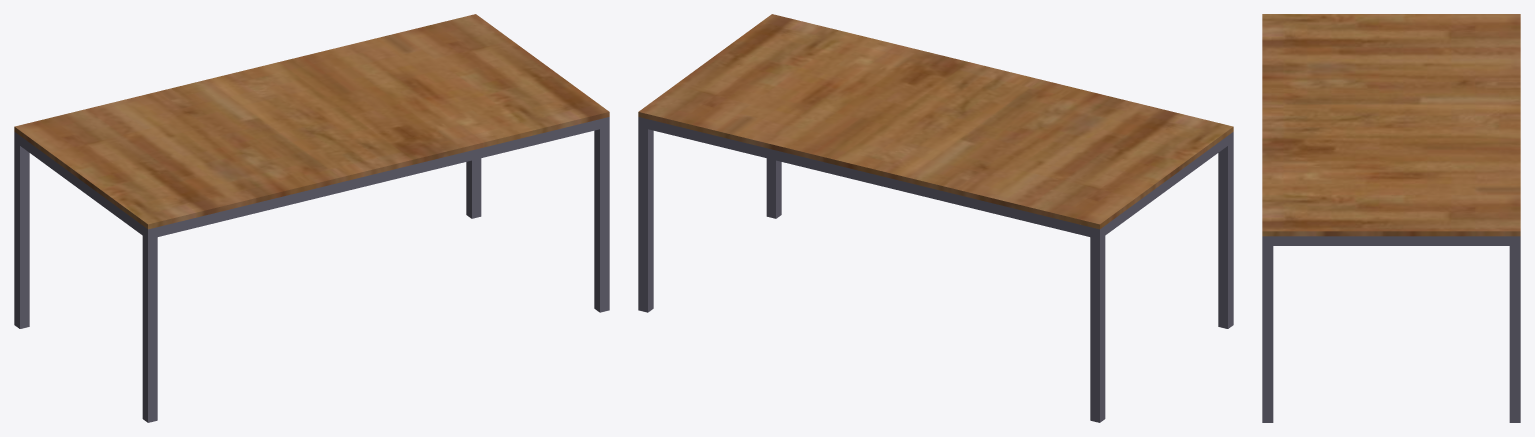
The model's file is dinningTable_joinned.fbx.
3 views of the same model, side by side, from view 1: azimuth 30°, elevation 25°; view 2: azimuth 150°, elevation 25°; view 3: azimuth 270°, elevation 25° (orthographic). The views are drawn at different scales.
Visible parts, largest first — view 1: group_6; view 2: group_6; view 3: group_6.
Part boxes in pixels (<box>): group_6: <box>14,14,609,422</box>; group_6: <box>638,14,1233,422</box>; group_6: <box>1262,14,1520,422</box>.
Size of the model in its own units: 183 by 75.18 by 91.76.
